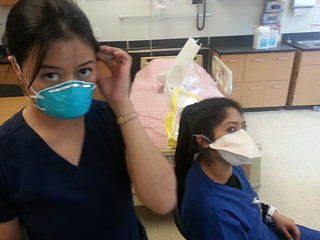n95: (30, 80, 102, 118), (207, 127, 265, 168)
